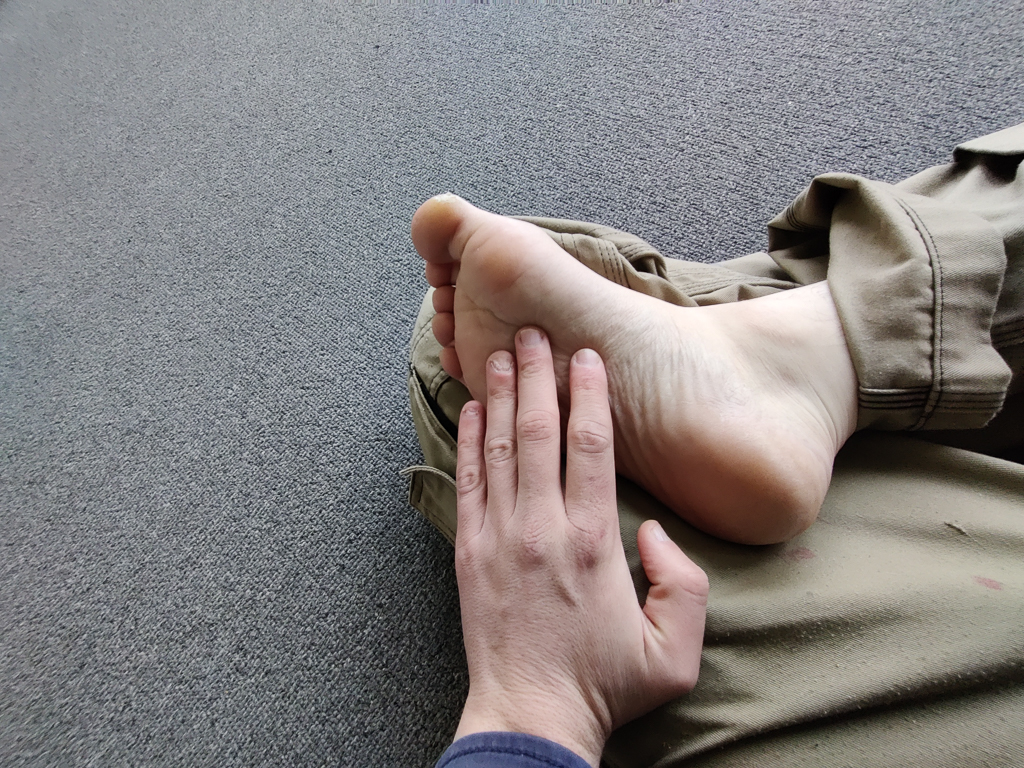Humanoid: (368, 113, 1024, 768)
